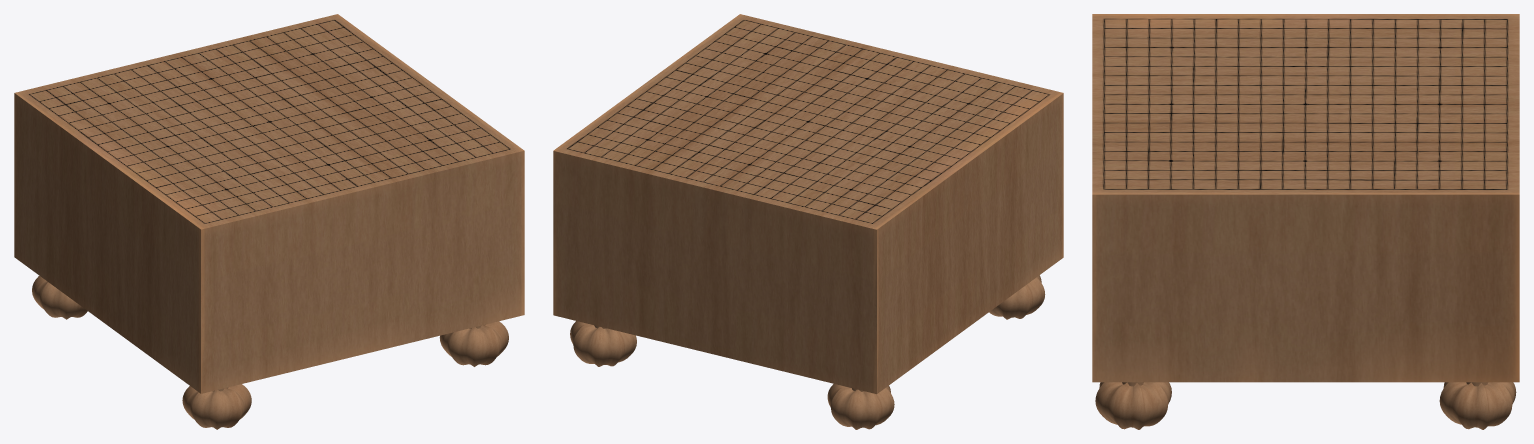
The model's file is go board.fbx.
The picture shows the model from 3 angles, left to right: view 1: azimuth 30°, elevation 25°; view 2: azimuth 150°, elevation 25°; view 3: azimuth 270°, elevation 25°; orthographic projection. The views are drawn at different scales.
Parts seen in each view (by area): view 1: pCube1, pSphere3, pSphere1, pSphere7; view 2: pCube1, pSphere7, pSphere5, pSphere3; view 3: pCube1, pSphere1, pSphere5.
Boxes of the visible parts, <box> form: pCube1: <box>14,14,524,393</box>; pSphere3: <box>182,384,251,429</box>; pSphere1: <box>439,321,508,366</box>; pSphere7: <box>32,276,87,319</box>; pCube1: <box>553,14,1063,394</box>; pSphere7: <box>827,384,894,429</box>; pSphere5: <box>570,321,636,366</box>; pSphere3: <box>989,275,1045,319</box>; pCube1: <box>1092,14,1519,382</box>; pSphere1: <box>1095,382,1171,429</box>; pSphere5: <box>1439,382,1516,429</box>.
Size of the model in its own units: 90.28 by 57.73 by 90.28.
